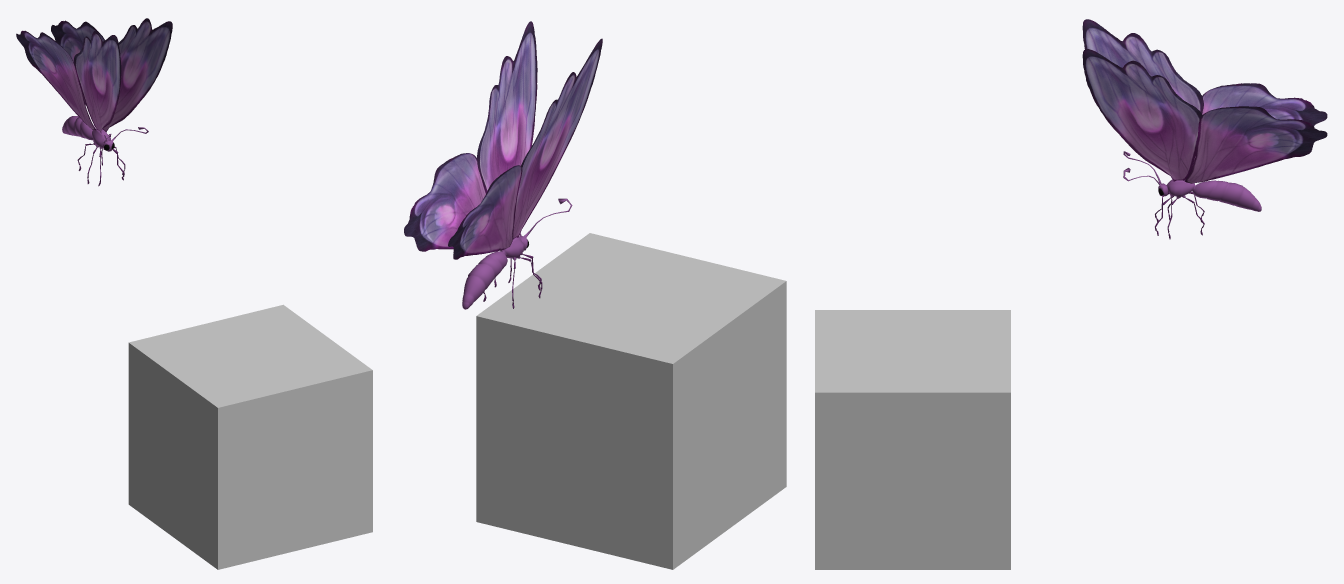
The picture shows the model from 3 angles, left to right: view 1: azimuth 30°, elevation 25°; view 2: azimuth 150°, elevation 25°; view 3: azimuth 270°, elevation 25°; orthographic projection. The views are drawn at different scales.
Visible parts, largest first — view 1: Cube_Cube.002, butterfly_wingfro_butterfly_wingfro.002, butterfly_wingfront.r_butterfly_wingfront, butterfly_wingback.r_butterfly_wingback, butterfly_body, butterfly_wingback.l_butterfly_wingback; view 2: Cube_Cube.002, butterfly_wingfro_butterfly_wingfro.002, butterfly_wingfront.r_butterfly_wingfront, butterfly_wingback.l_butterfly_wingback, butterfly_wingback.r_butterfly_wingback, butterfly_body; view 3: Cube_Cube.002, butterfly_wingfro_butterfly_wingfro.002, butterfly_wingback.l_butterfly_wingback, butterfly_wingfront.r_butterfly_wingfront, butterfly_wingback.r_butterfly_wingback, butterfly_body.
Boxes of the visible parts, x1,y1,x2,y2 form: Cube_Cube.002: [128, 304, 372, 569]; butterfly_wingfro_butterfly_wingfro.002: [102, 18, 172, 132]; butterfly_wingfront.r_butterfly_wingfront: [74, 31, 121, 133]; butterfly_wingback.r_butterfly_wingback: [16, 30, 95, 130]; butterfly_body: [62, 116, 148, 186]; butterfly_wingback.l_butterfly_wingback: [51, 20, 104, 105]; Cube_Cube.002: [476, 233, 786, 569]; butterfly_wingfro_butterfly_wingfro.002: [477, 21, 537, 193]; butterfly_wingfront.r_butterfly_wingfront: [513, 38, 602, 239]; butterfly_wingback.l_butterfly_wingback: [404, 153, 486, 251]; butterfly_wingback.r_butterfly_wingback: [448, 165, 522, 259]; butterfly_body: [462, 198, 572, 309]; Cube_Cube.002: [815, 310, 1010, 569]; butterfly_wingfro_butterfly_wingfro.002: [1082, 49, 1202, 181]; butterfly_wingback.l_butterfly_wingback: [1184, 106, 1327, 183]; butterfly_wingfront.r_butterfly_wingfront: [1082, 19, 1198, 94]; butterfly_wingback.r_butterfly_wingback: [1194, 83, 1327, 159]; butterfly_body: [1123, 151, 1261, 239].
Size of the model in its own units: 0.2853 by 0.7792 by 0.7502.
Materials: 5 (1 with a texture image).
